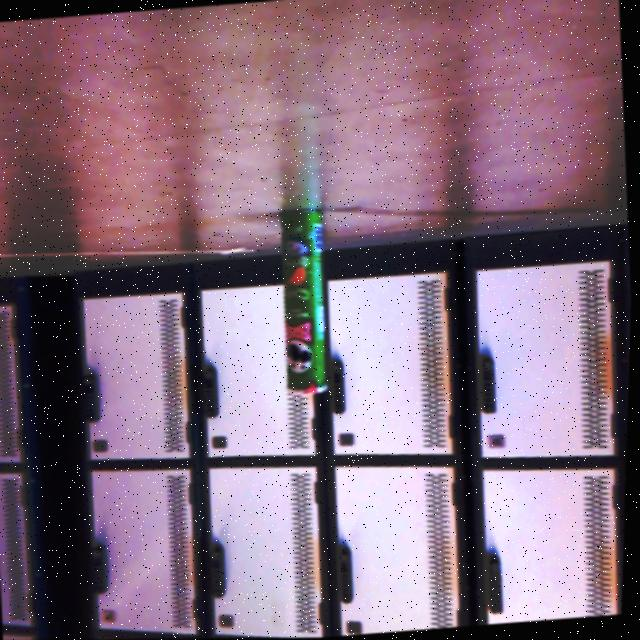greenpringles: (253, 182, 357, 420)
